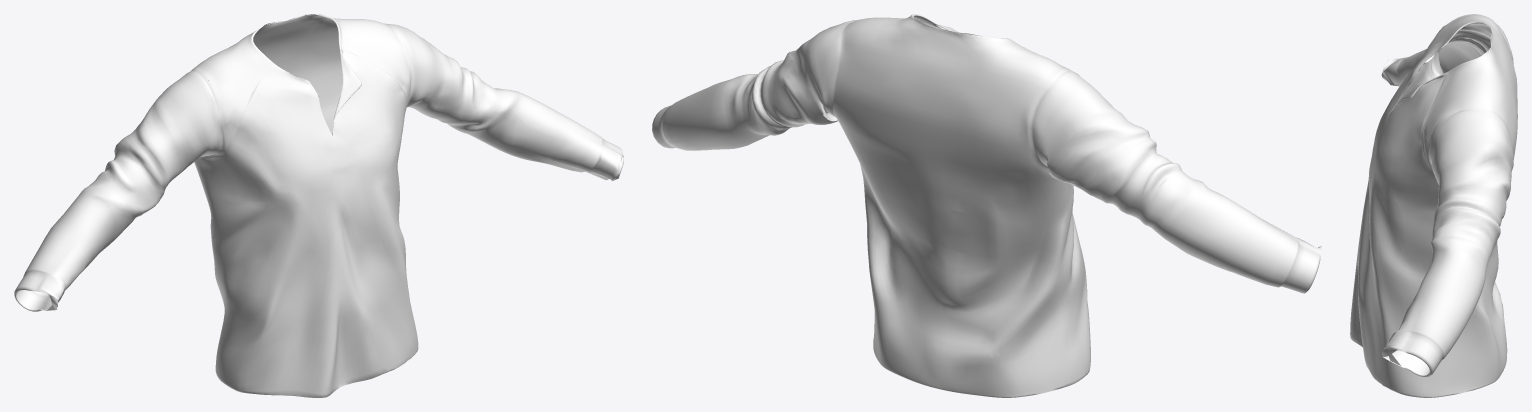
The model's file is LongSleeve.glb.
3 renders of one model, left to right at view 1: azimuth 30°, elevation 25°; view 2: azimuth 150°, elevation 25°; view 3: azimuth 270°, elevation 25°, orthographic. The views are drawn at different scales.
Visible parts, largest first — view 1: Petite_Longsleeve; view 2: Petite_Longsleeve; view 3: Petite_Longsleeve.
Boxes of the visible parts, <box> form: Petite_Longsleeve: <box>14,14,623,397</box>; Petite_Longsleeve: <box>652,14,1321,397</box>; Petite_Longsleeve: <box>1350,14,1517,397</box>.
Bounding box in the file's own units: 22.02 × 11.28 × 5.35.
Materials: 1 (1 with a texture image).
